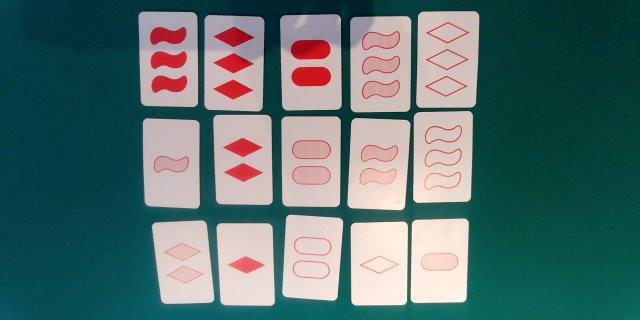1ED: (355, 225, 404, 302)
1FD: (223, 226, 269, 303)
1HP: (414, 223, 464, 300)
1HW: (146, 121, 195, 204)
2EP: (288, 219, 335, 296)
2FD: (217, 117, 267, 200)
2FP: (284, 18, 337, 107)
2HD: (161, 225, 206, 299)
2HP: (284, 118, 335, 204)
2HW: (354, 122, 402, 206)
3ED: (420, 14, 473, 104)
3EW: (416, 116, 469, 198)
3FD: (208, 18, 259, 107)
3FW: (142, 14, 194, 103)
3HW: (354, 20, 407, 108)
